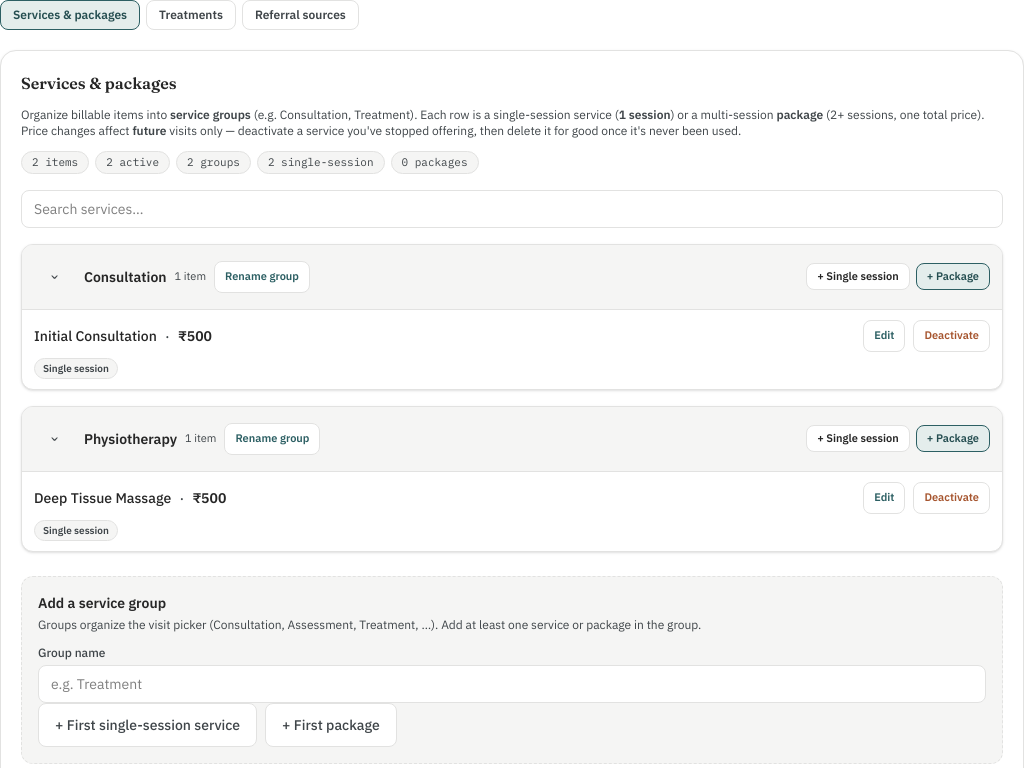
Test: ServiceCatalog — search › filters items by name across categories
The width and height of the screenshot is (1024, 768).
Expected: the text "Initial Consultation" is shown, [34,326,157,346]
Expected: the text "Deep Tissue Massage" is shown, [34,488,171,508]
In the search field with placeholder "Search services…": point(512, 208) [21,190,1003,228], type "deep"
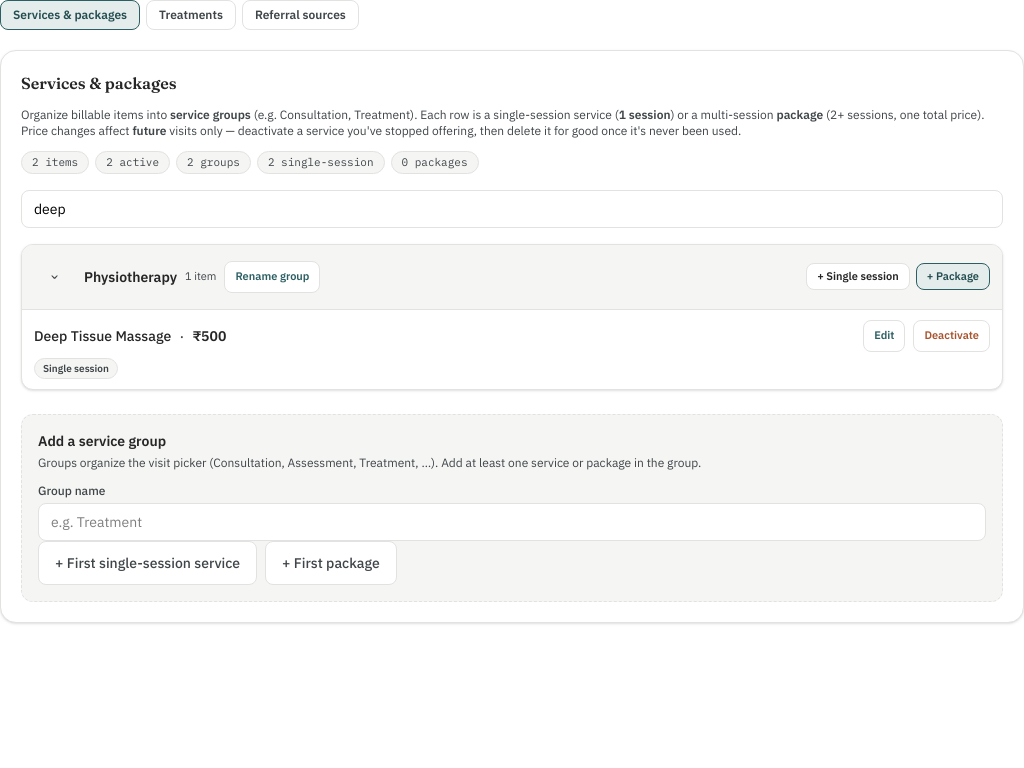
Expected: the text "Deep Tissue Massage" is shown, [34,326,171,346]
Expected: the text "Initial Consultation" is gone
